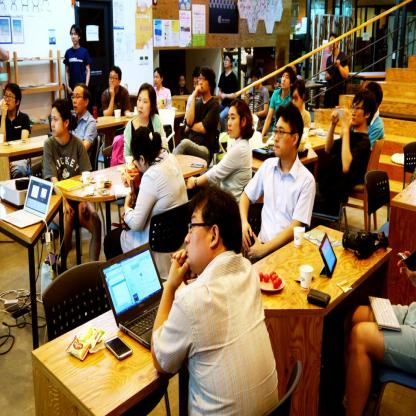board: (97, 244, 159, 347), (3, 176, 54, 228)
